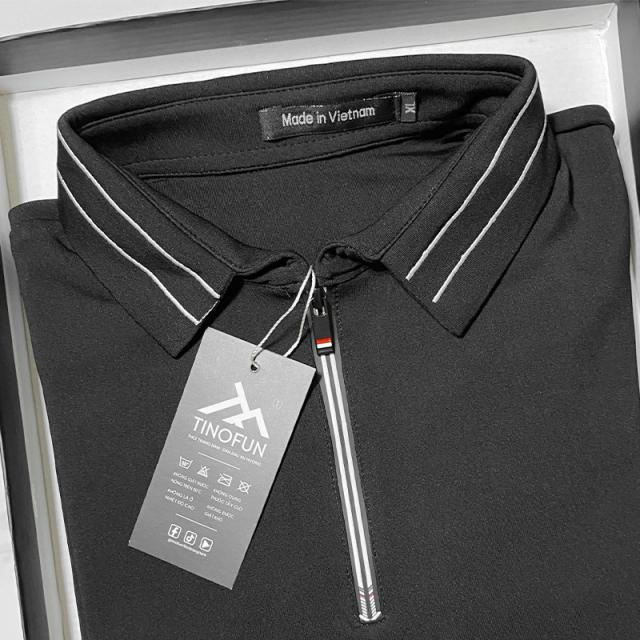Shirt: (11, 52, 640, 640)
